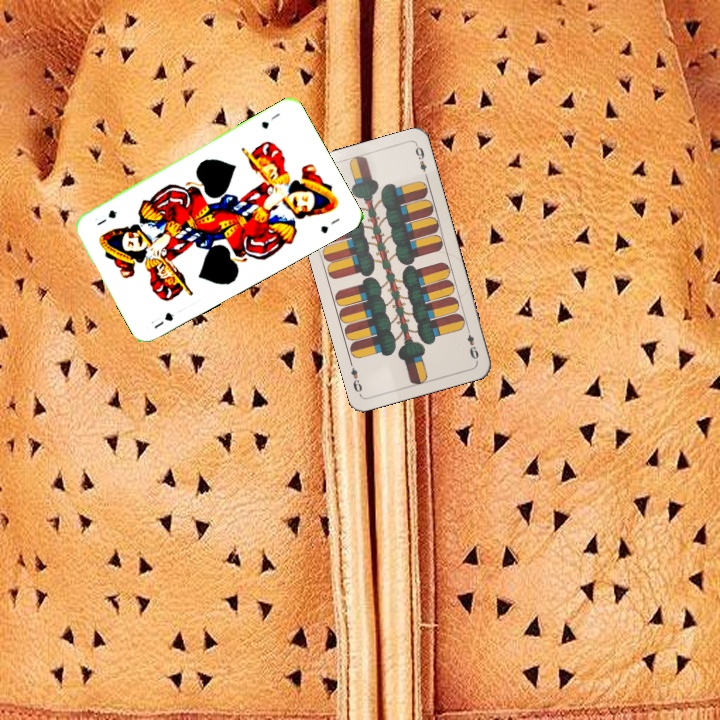E9: (462, 324, 481, 363)
GU: (147, 308, 177, 331), (257, 109, 282, 132)
